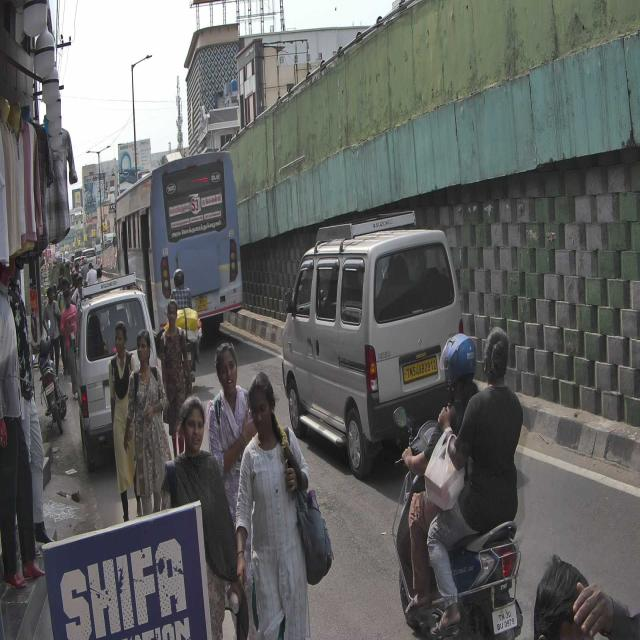double_rider: (391, 322, 522, 640)
